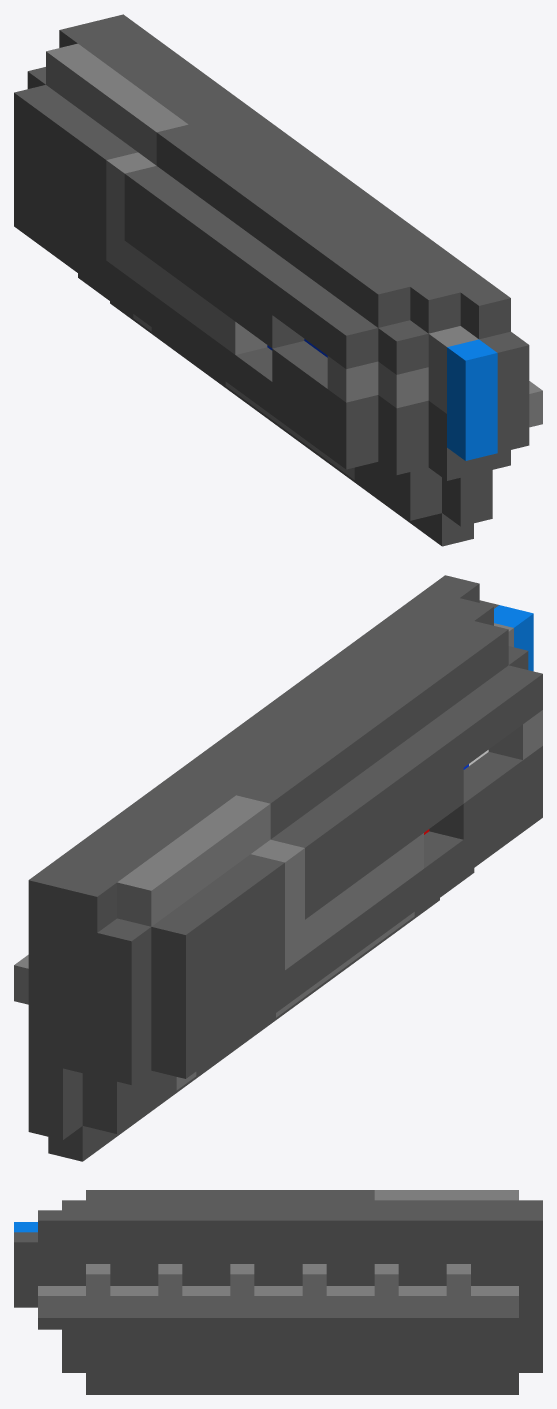
File: Extra-10-Warship_Laser_R.obj
The picture shows the model from 3 angles, top to bottom: view 1: azimuth 30°, elevation 25°; view 2: azimuth 150°, elevation 25°; view 3: azimuth 270°, elevation 25°; orthographic projection. The views are drawn at different scales.
Visible parts, largest first — view 1: Warship_Laser_R; view 2: Warship_Laser_R; view 3: Warship_Laser_R.
Boxes of the visible parts, bbox=[...] form: Warship_Laser_R: bbox=[14, 14, 542, 546]; Warship_Laser_R: bbox=[14, 575, 542, 1161]; Warship_Laser_R: bbox=[14, 1190, 542, 1394].
Size of the model in its own units: 0.5 by 0.8 by 2.2.
Materials: 1 (1 with a texture image).
